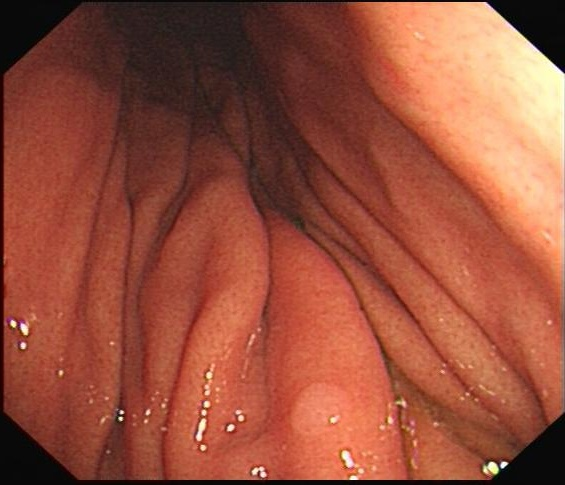Polyp: (267, 370, 362, 453)
